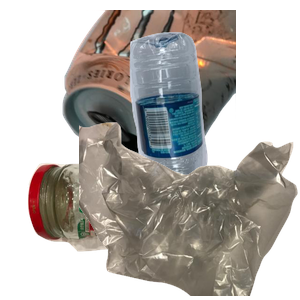glass: (25, 155, 227, 300)
metal: (60, 10, 300, 175)
plastic: (127, 29, 300, 209)
trash: (79, 120, 300, 300)
